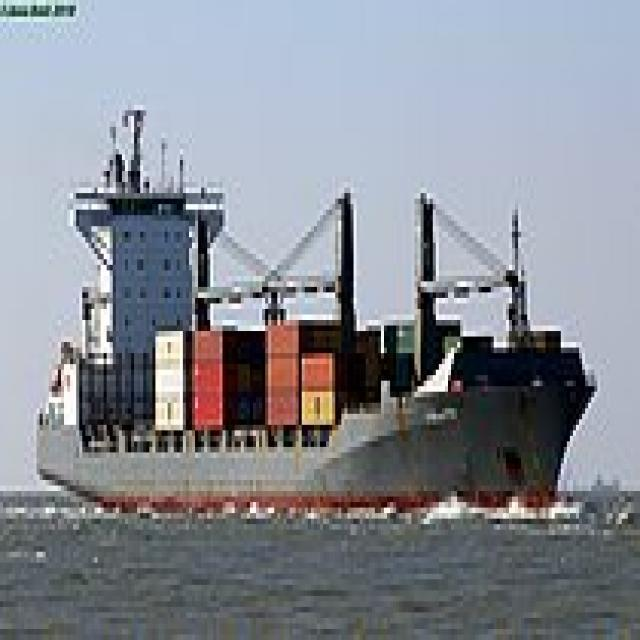Ship: (29, 73, 605, 553)
